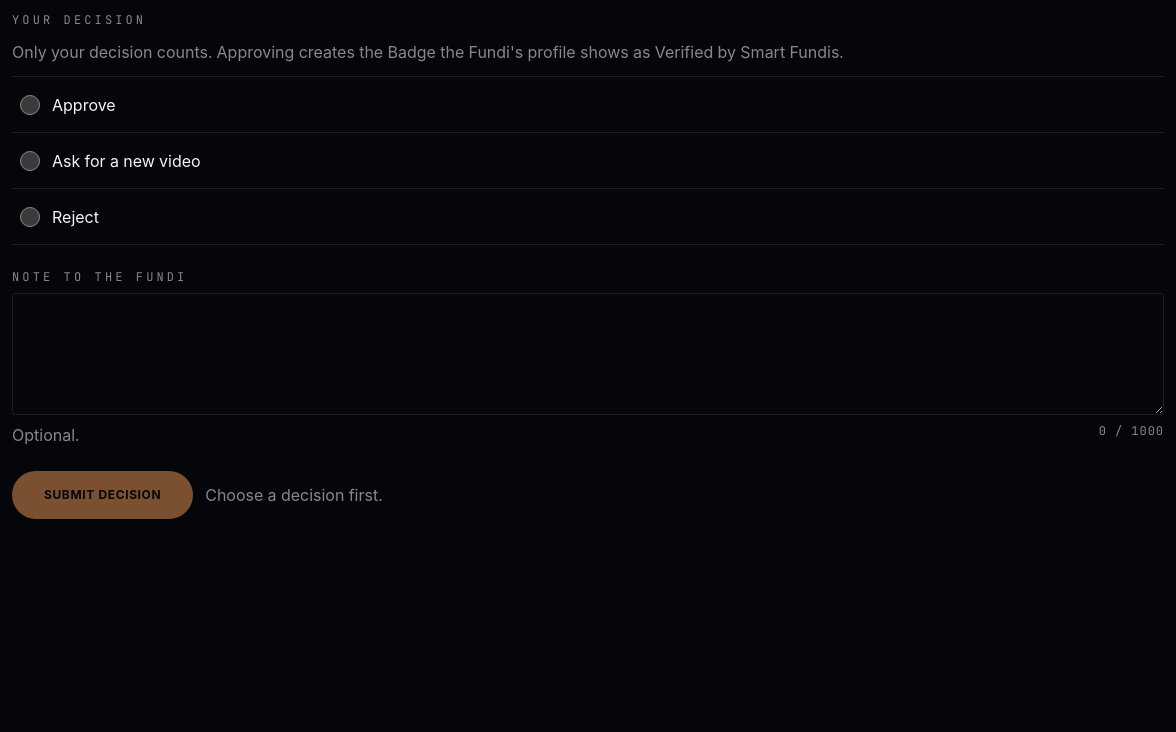
Test: the decision form (US-5.3) › shows a neutral ✕ with every error, outside the alert and hidden from screen readers, never amber
The width and height of the screenshot is (1176, 732).
Click the radio button labelled "Reject": (30, 216) x1=20 y1=206 x2=40 y2=226
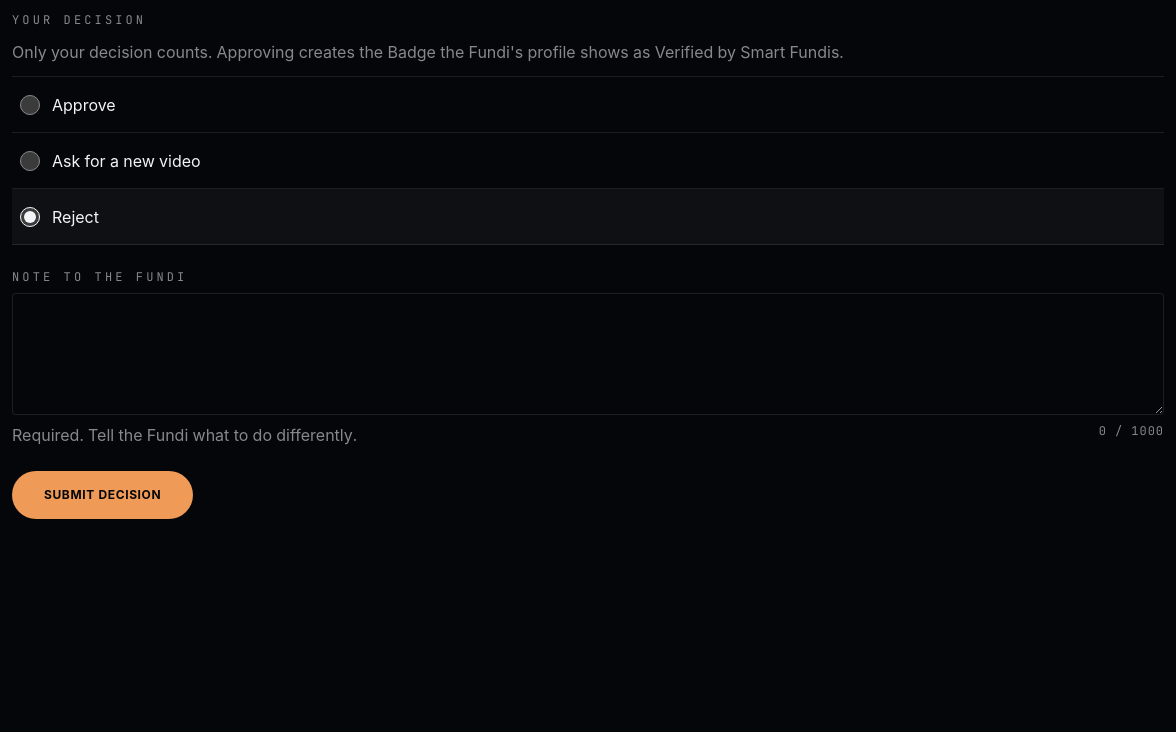
Submit the form
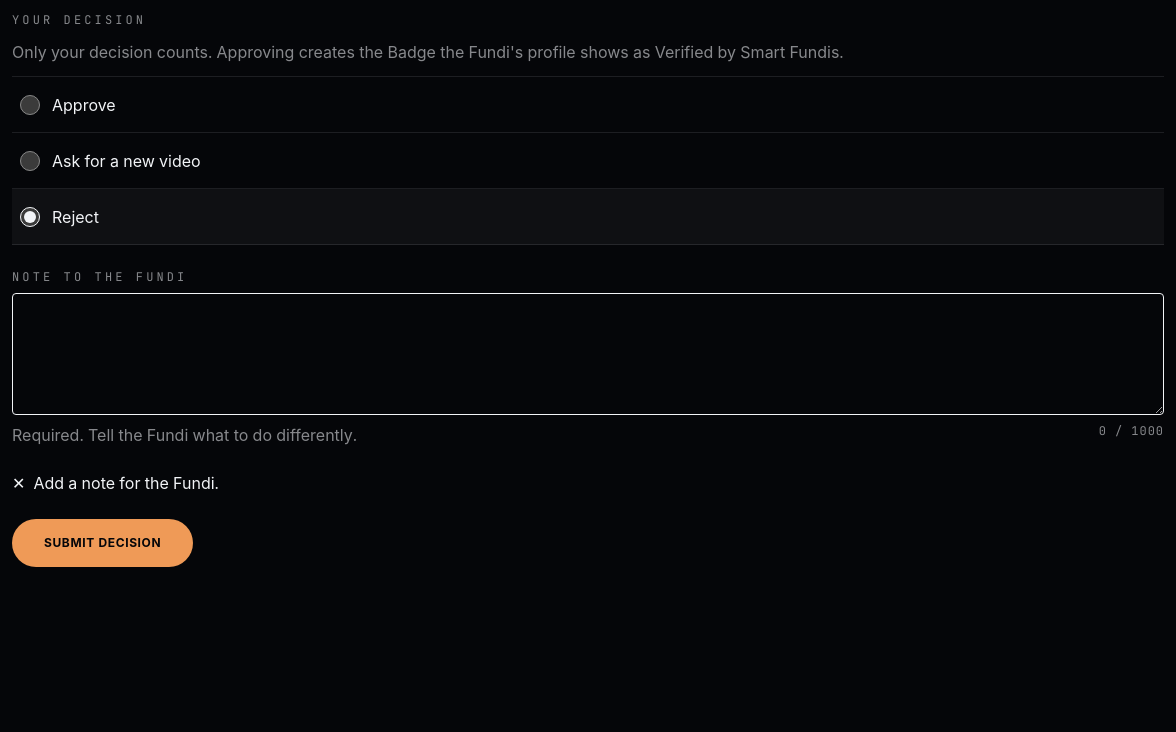
Check: the message "Add a note for the Fundi." is shown, box x1=33 y1=471 x2=219 y2=495
Check: the text "✕" is shown, box x1=12 y1=471 x2=25 y2=495
